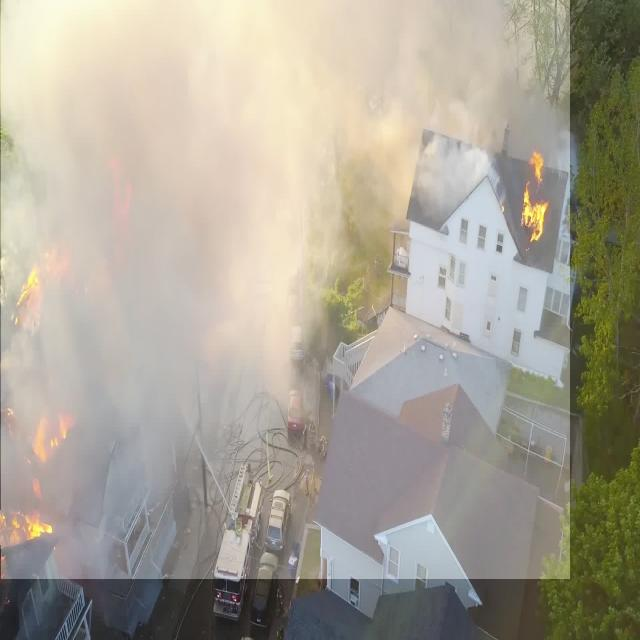Fire: (1, 0, 570, 579), (8, 246, 113, 342), (2, 408, 82, 496), (105, 153, 131, 254), (0, 510, 57, 545), (516, 189, 548, 243), (529, 144, 548, 185)
